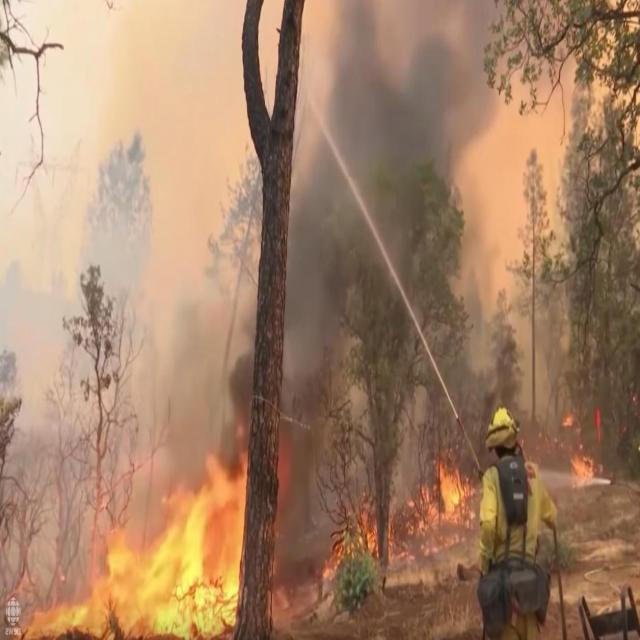fire: (30, 452, 250, 629)
